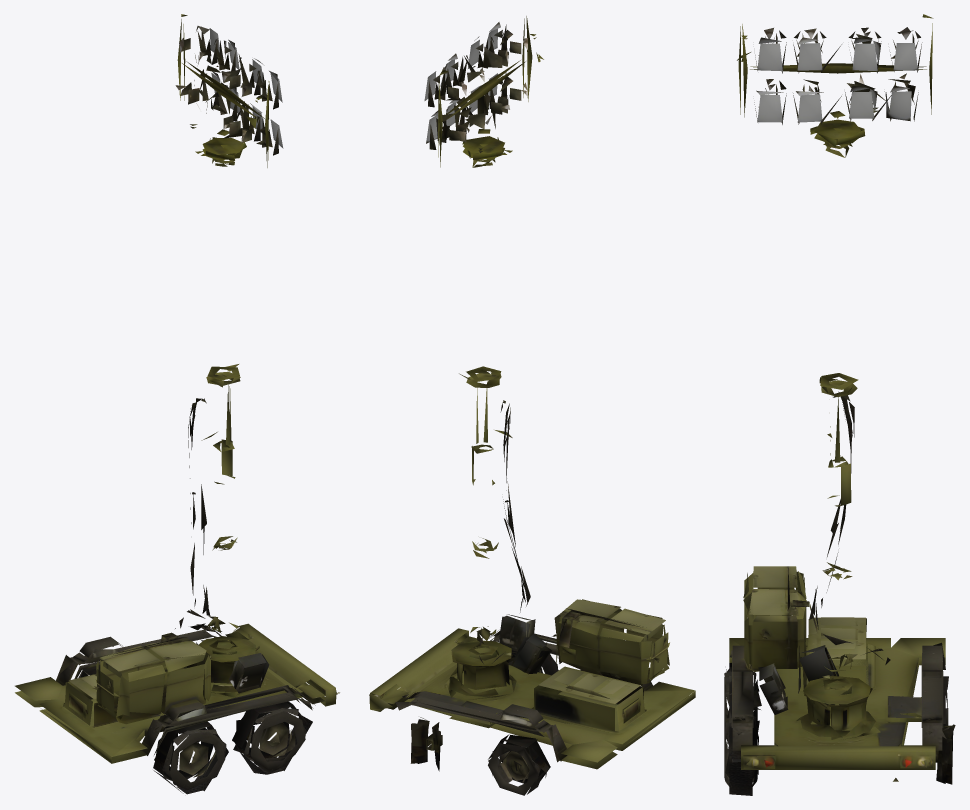
Rendered from ch4_mobile_light_tower_LOD3.glb.
The picture shows the model from 3 angles, left to right: view 1: azimuth 30°, elevation 25°; view 2: azimuth 150°, elevation 25°; view 3: azimuth 270°, elevation 25°; orthographic projection. The views are drawn at different scales.
Parts seen in each view (by area): view 1: tripo_node_c0f13101-130a-4c5d-920d-0b0e6c6459a0; view 2: tripo_node_c0f13101-130a-4c5d-920d-0b0e6c6459a0; view 3: tripo_node_c0f13101-130a-4c5d-920d-0b0e6c6459a0.
Boxes of the visible parts, x1=… form: tripo_node_c0f13101-130a-4c5d-920d-0b0e6c6459a0: x1=15, y1=14, x2=339, y2=794; tripo_node_c0f13101-130a-4c5d-920d-0b0e6c6459a0: x1=369, y1=16, x2=695, y2=795; tripo_node_c0f13101-130a-4c5d-920d-0b0e6c6459a0: x1=724, y1=14, x2=955, y2=795.
Size of the model in its own units: 0.3574 by 1.01 by 0.2712.
1 material, 1 textured.
